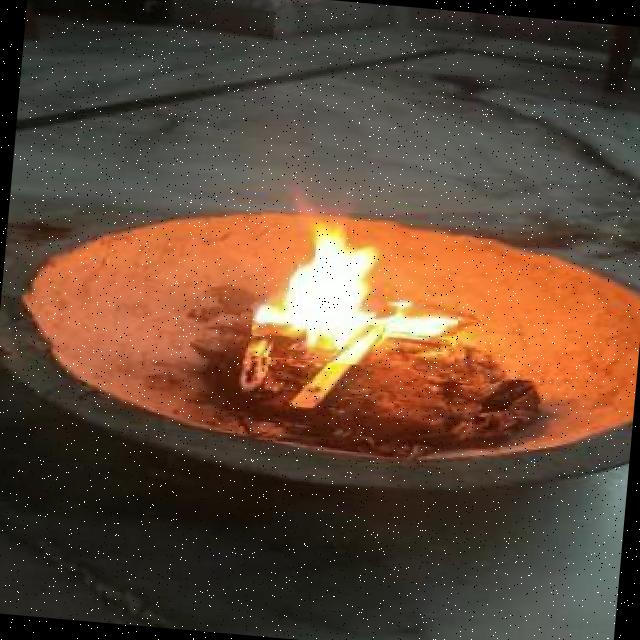fire: (248, 210, 466, 372)
